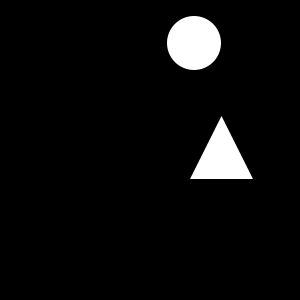rectangle: (167, 16, 221, 70)
triangle: (190, 116, 253, 179)
